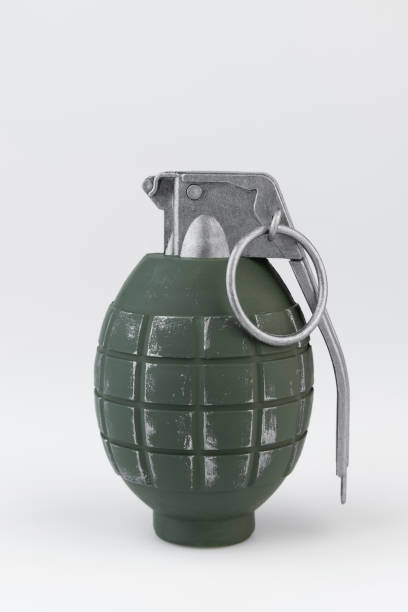e1: (93, 169, 353, 548)
